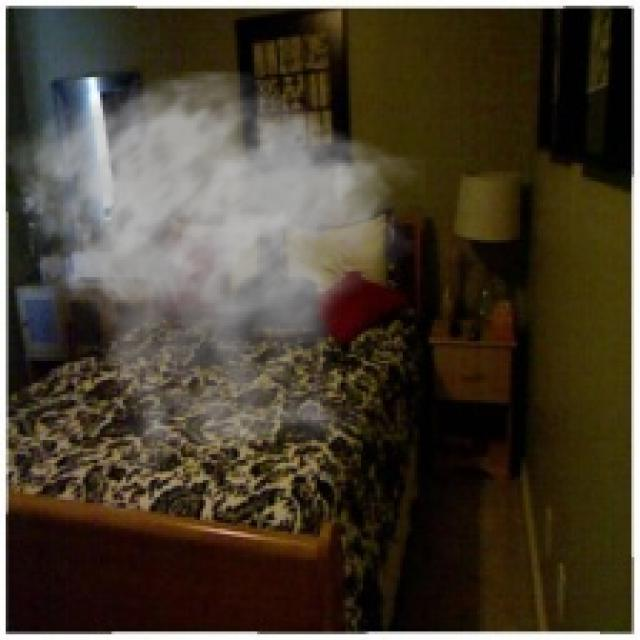smoke: (3, 68, 426, 486)
